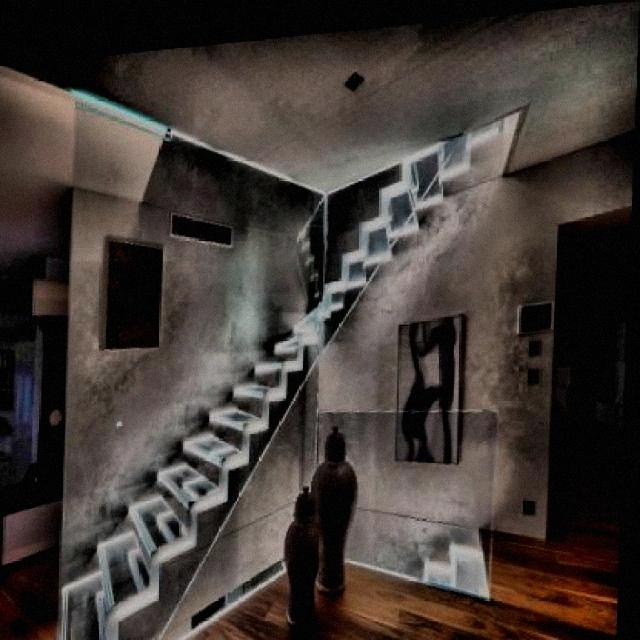stair: (58, 384, 284, 638)
